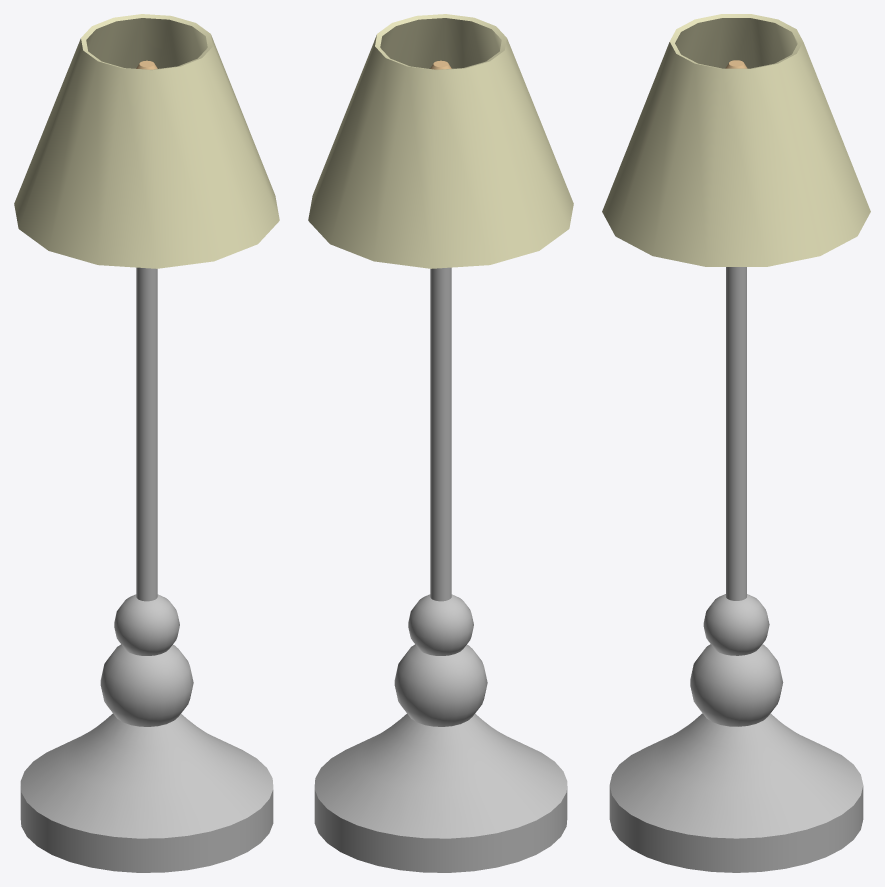
File: lampara.fbx
The picture shows the model from 3 angles, left to right: view 1: azimuth 30°, elevation 25°; view 2: azimuth 150°, elevation 25°; view 3: azimuth 270°, elevation 25°; orthographic projection.
Visible parts, largest first — view 1: Cylinder.002, Cylinder.001; view 2: Cylinder.002, Cylinder.001; view 3: Cylinder.002, Cylinder.001.
Boxes of the visible parts, bbox=[...] form: Cylinder.002: bbox=[14, 14, 279, 268]; Cylinder.001: bbox=[20, 60, 273, 872]; Cylinder.002: bbox=[308, 14, 573, 268]; Cylinder.001: bbox=[314, 60, 567, 872]; Cylinder.002: bbox=[602, 14, 870, 266]; Cylinder.001: bbox=[609, 60, 863, 872].
Bounding box in the file's own units: 73.57 × 241 × 75.46.
